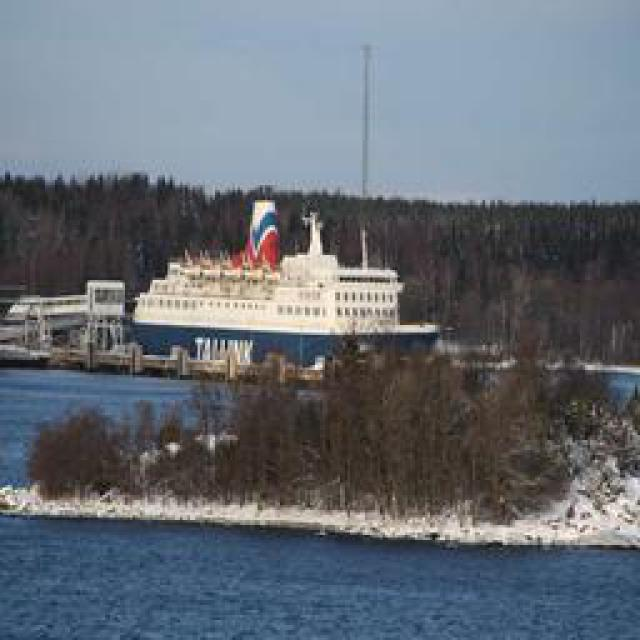Ship: (126, 215, 441, 368)
